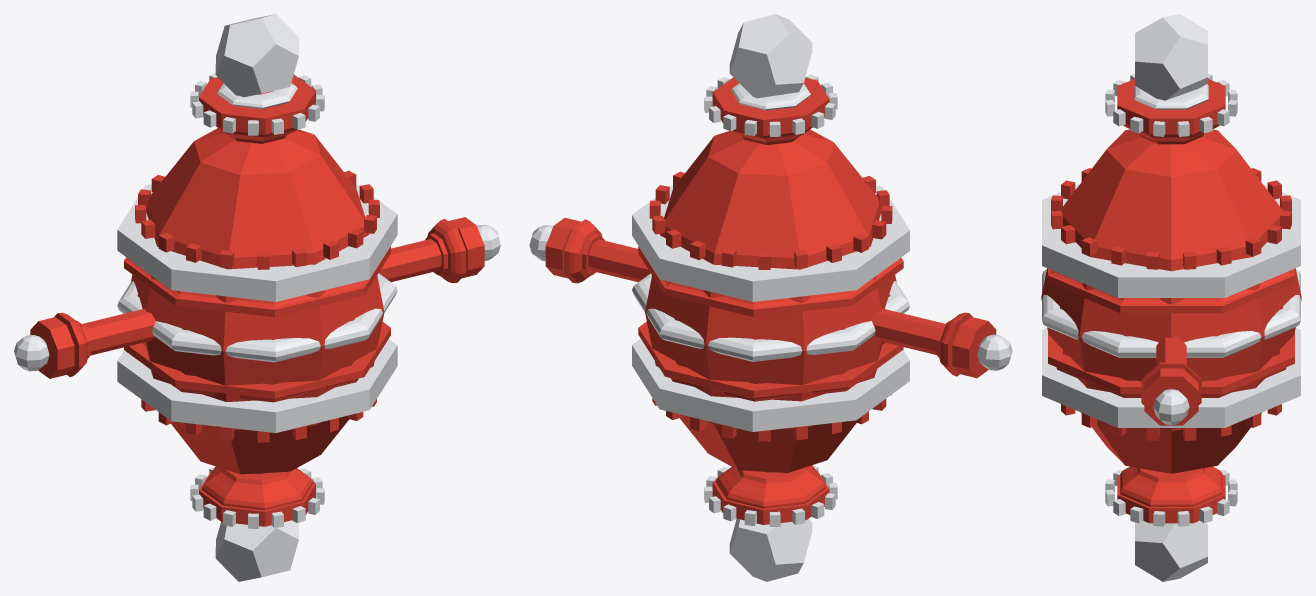
The model's file is queen-ornate.glb.
The picture shows the model from 3 angles, left to right: view 1: azimuth 30°, elevation 25°; view 2: azimuth 150°, elevation 25°; view 3: azimuth 270°, elevation 25°; orthographic projection.
Parts seen in each view (by area): view 1: queen-ornate; view 2: queen-ornate; view 3: queen-ornate.
Part boxes in pixels (x1,y1,x2,y2): queen-ornate: [14, 14, 500, 581]; queen-ornate: [529, 14, 1012, 581]; queen-ornate: [1041, 14, 1301, 581].
Bounding box in the file's own units: 0.849 × 0.9502 × 0.4.
